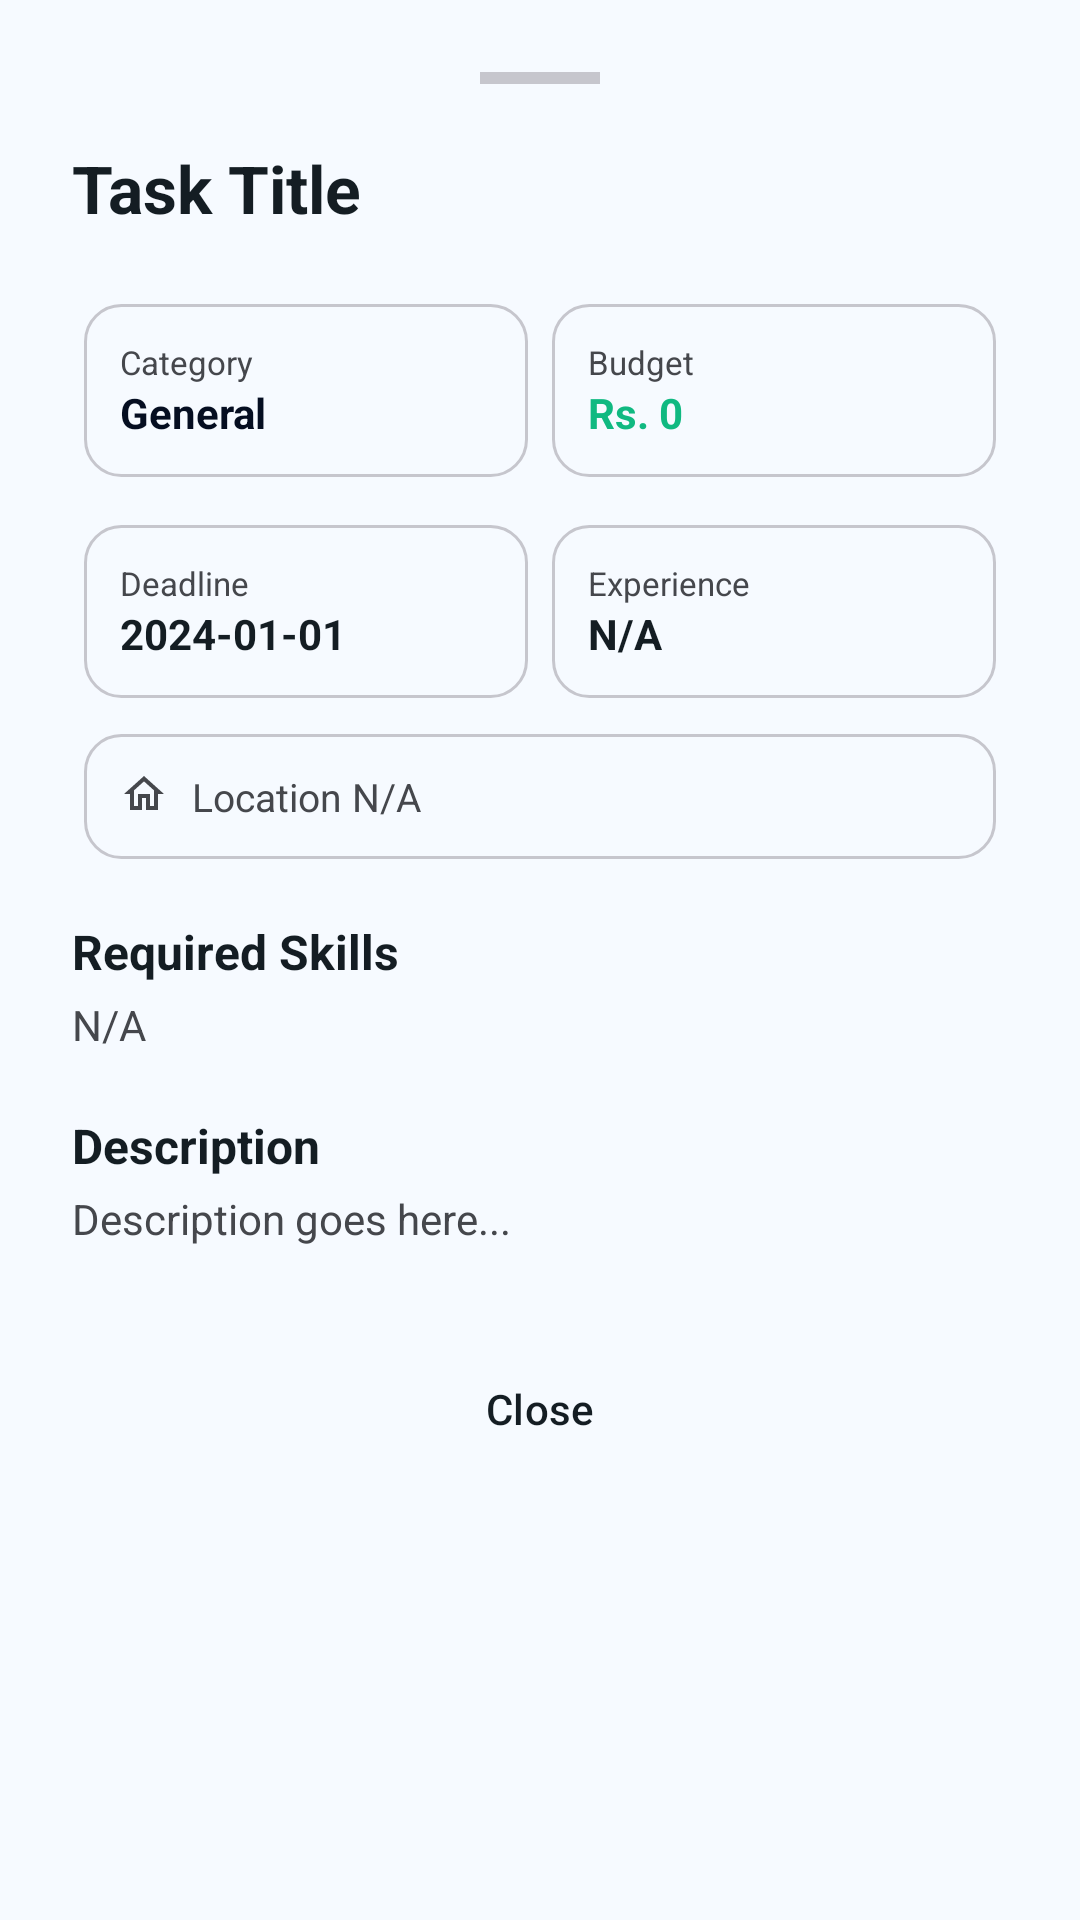

Point at icon controls on the screen. Image size 1080px×1920px, points as (x=x, y=y).
home: (x=144, y=793)
